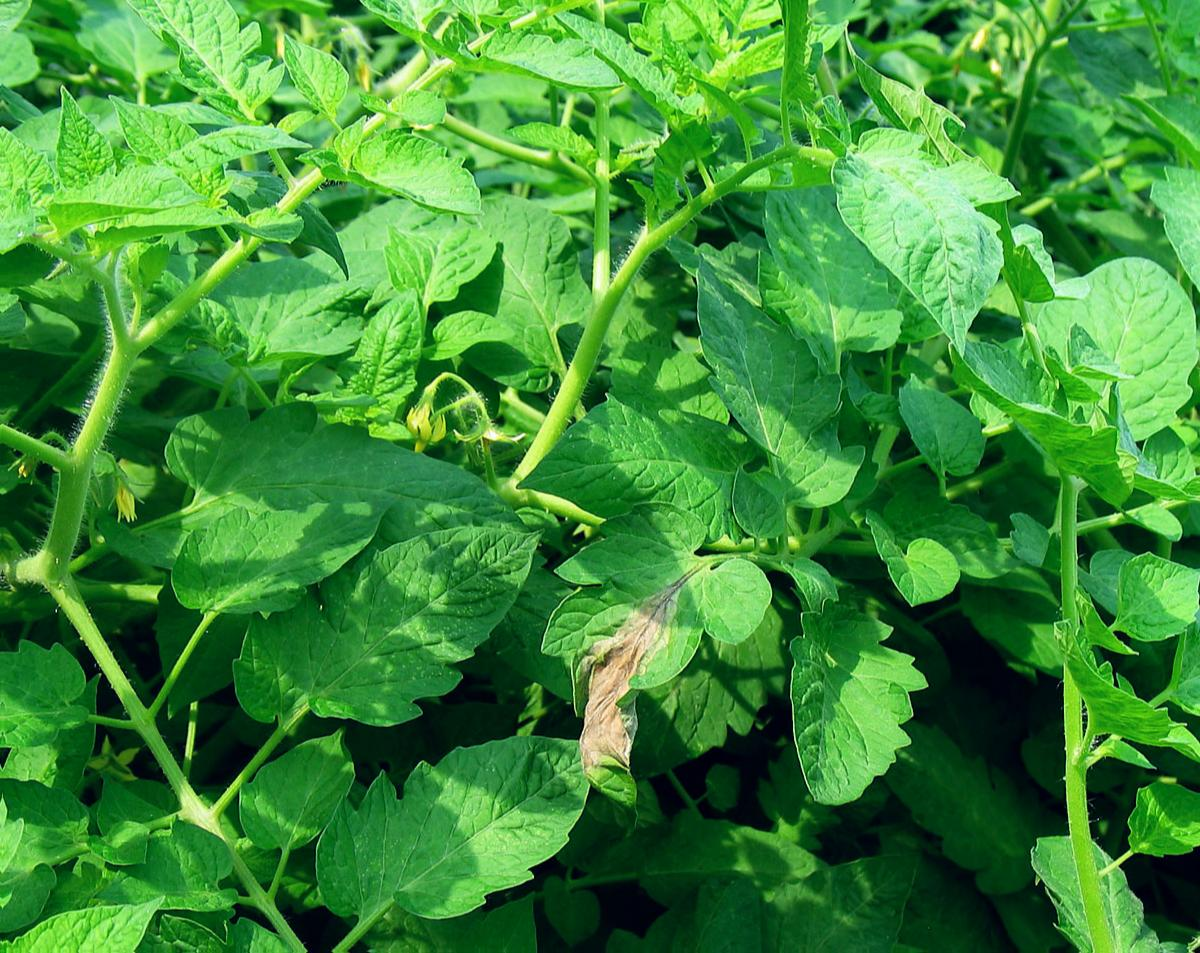Tomato leaf: (234, 515, 539, 763), (671, 240, 865, 542), (306, 749, 595, 930), (781, 572, 930, 817), (761, 157, 906, 408), (178, 476, 368, 639), (1042, 249, 1188, 442), (230, 727, 360, 859), (326, 141, 494, 214)
Tomato leaf late blight: (543, 534, 758, 749)
